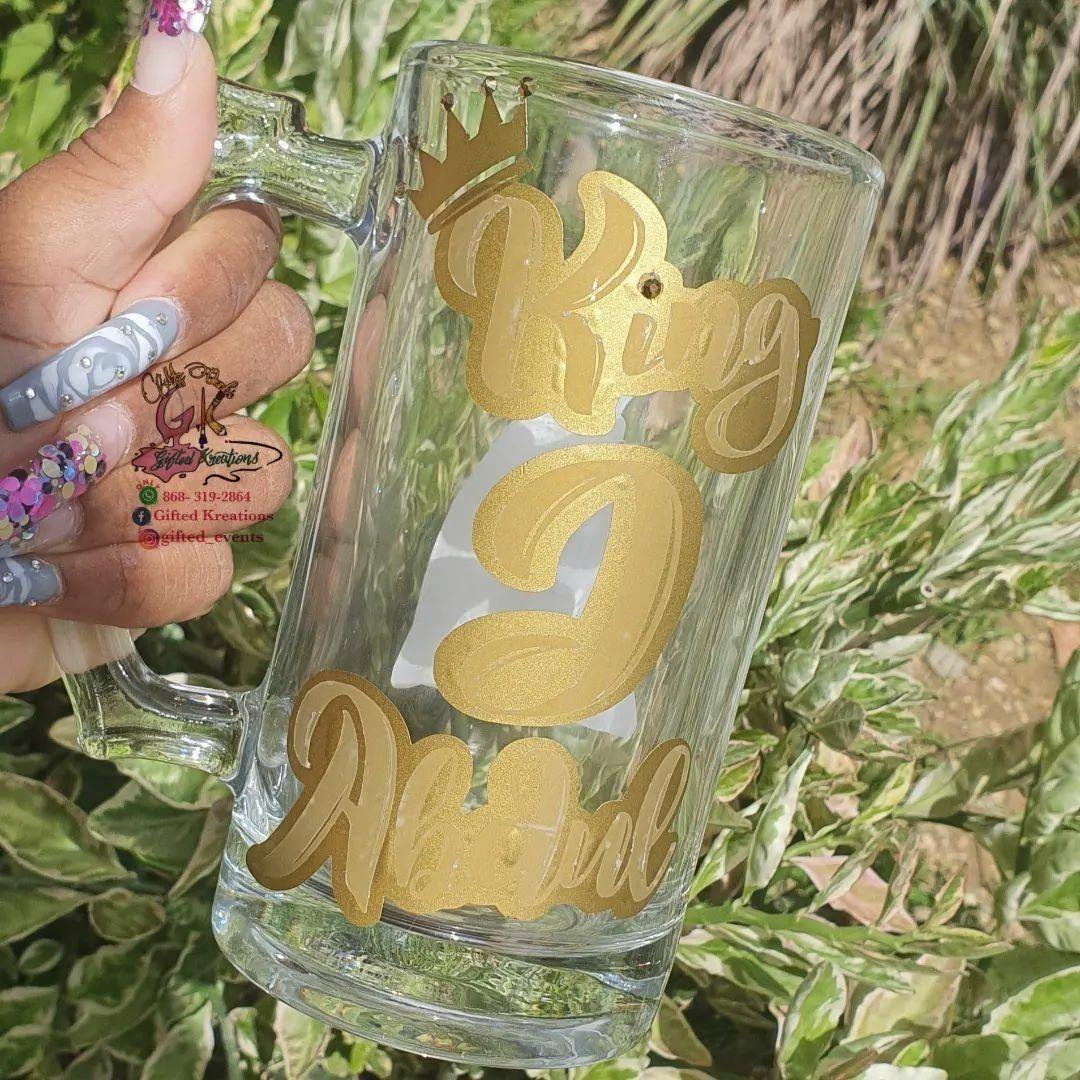glass-mug: (43, 29, 890, 1080)
